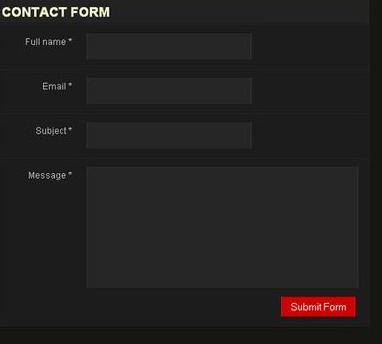button: (276, 295, 358, 318)
field: (85, 166, 359, 291), (84, 121, 254, 152), (83, 32, 253, 62), (84, 75, 254, 105)
field_with_label: (29, 165, 361, 292), (25, 30, 255, 64), (35, 119, 256, 154), (38, 73, 256, 107)
